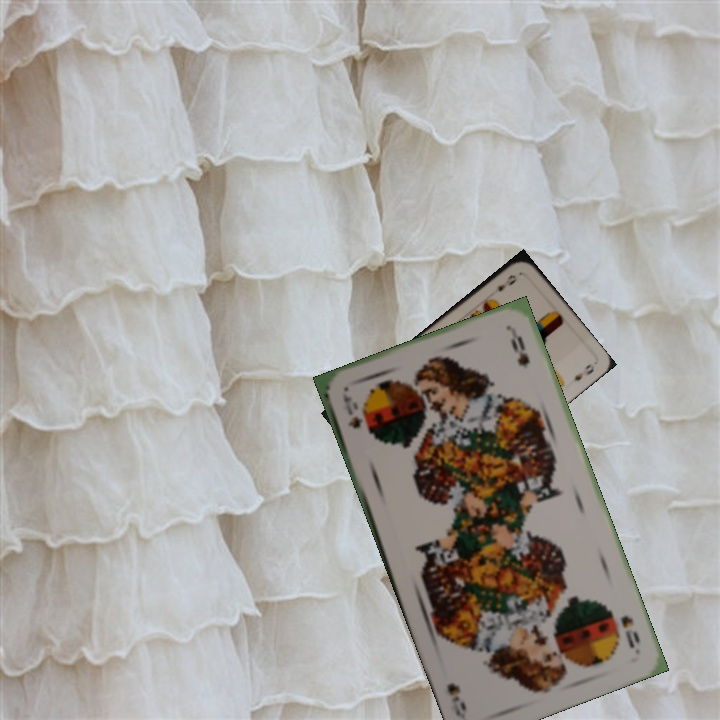E9: (494, 271, 520, 294)
SO: (338, 391, 366, 431), (617, 611, 643, 654)
